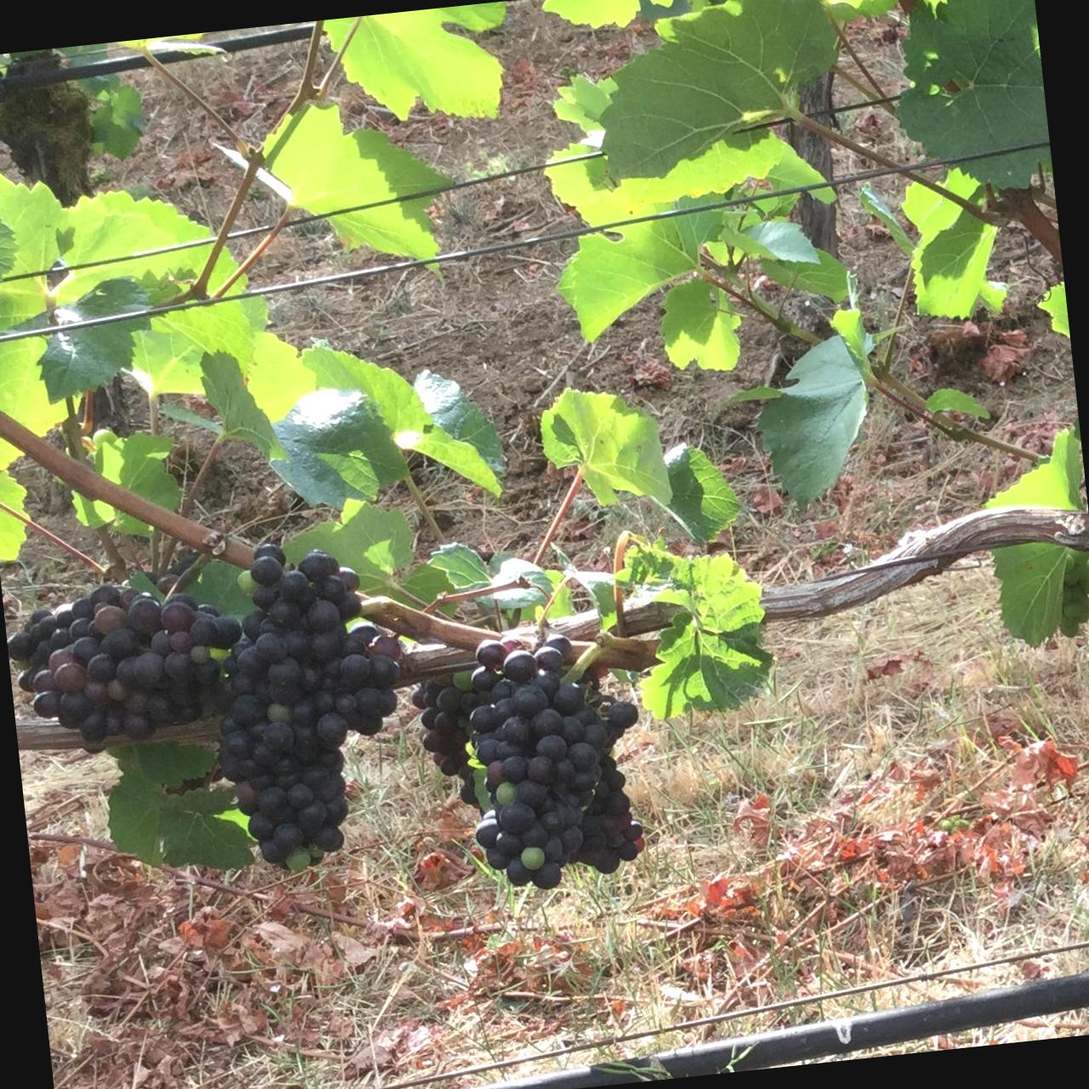Grape Ripe: (194, 496, 453, 889), (408, 629, 648, 914), (0, 544, 254, 779)
